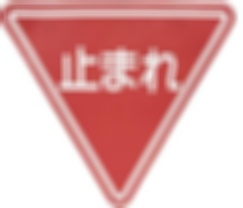Regulatory_sign_triangle: (2, 1, 239, 204)
